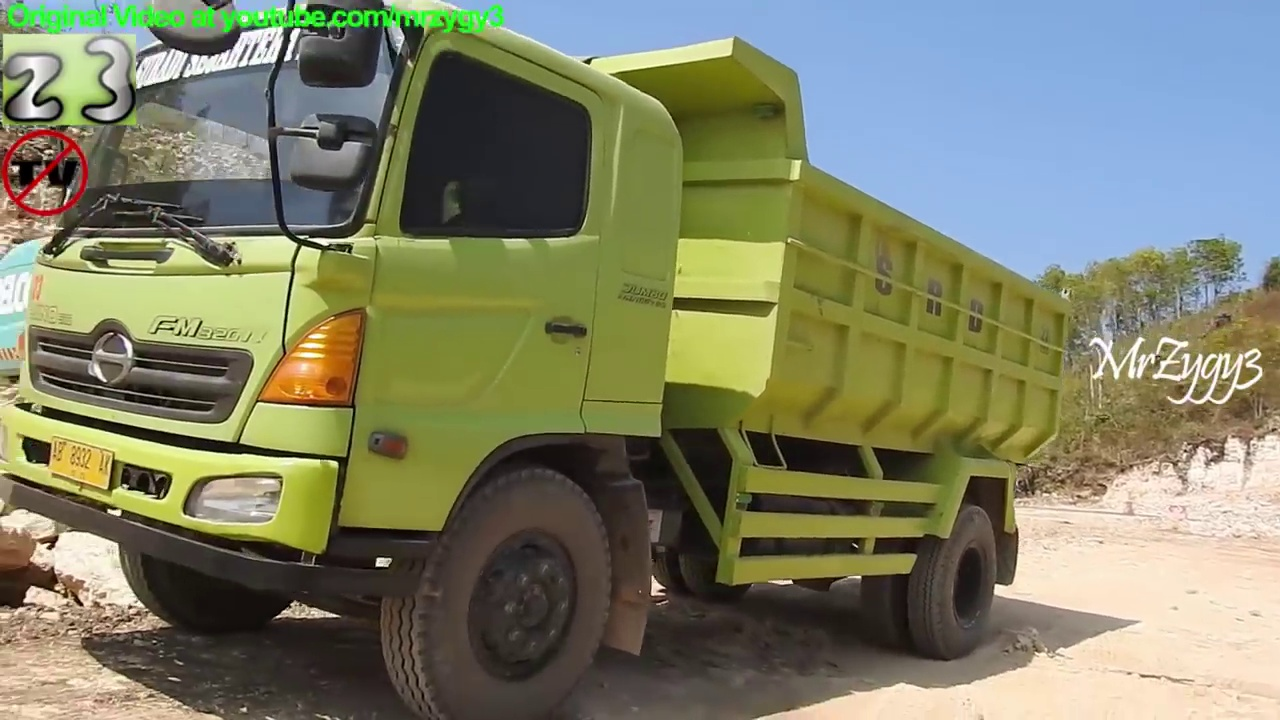truck: (1, 1, 1081, 720)
